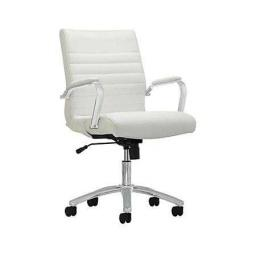Chair: (59, 30, 197, 220)
